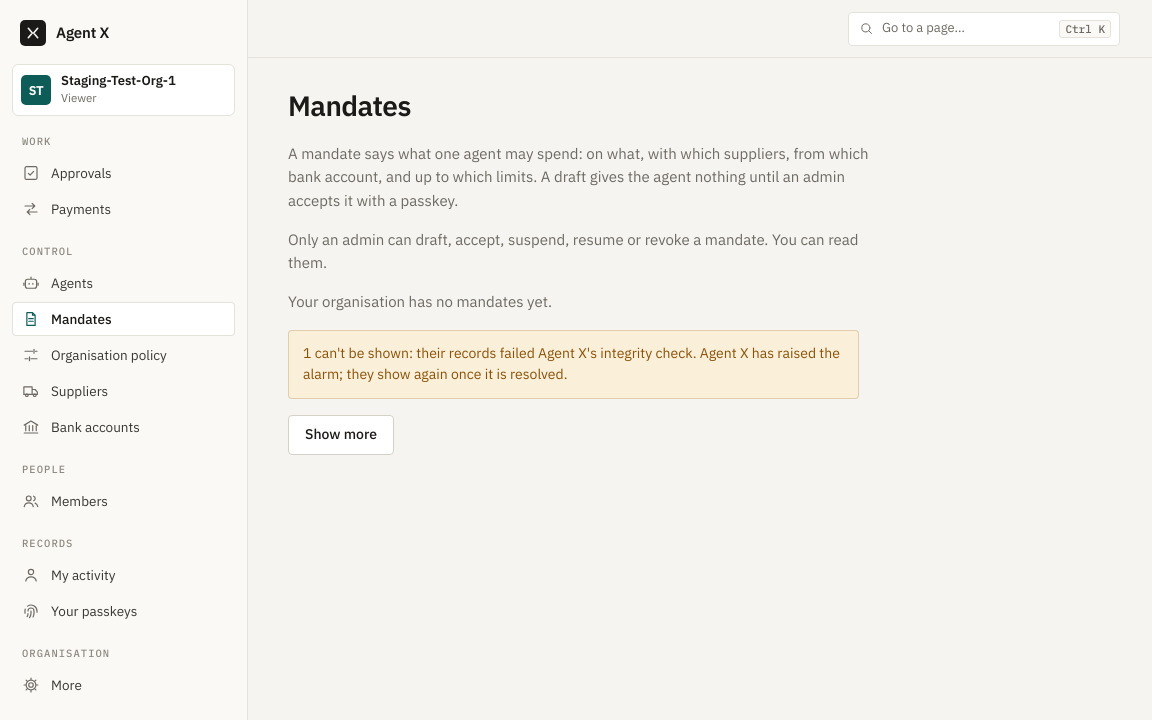
Scenario: the mandates list › says when there are none, pages on, and tells a non-admin they can only read
This screenshot has width=1152, height=720.
Expected: the text "can't be shown: their records failed" is shown, [303,344,840,383]
Expected: the text "Only an admin can draft" is shown, [288,230,858,272]
Click the button "Show more" at [341, 435], box [288,415,394,455]
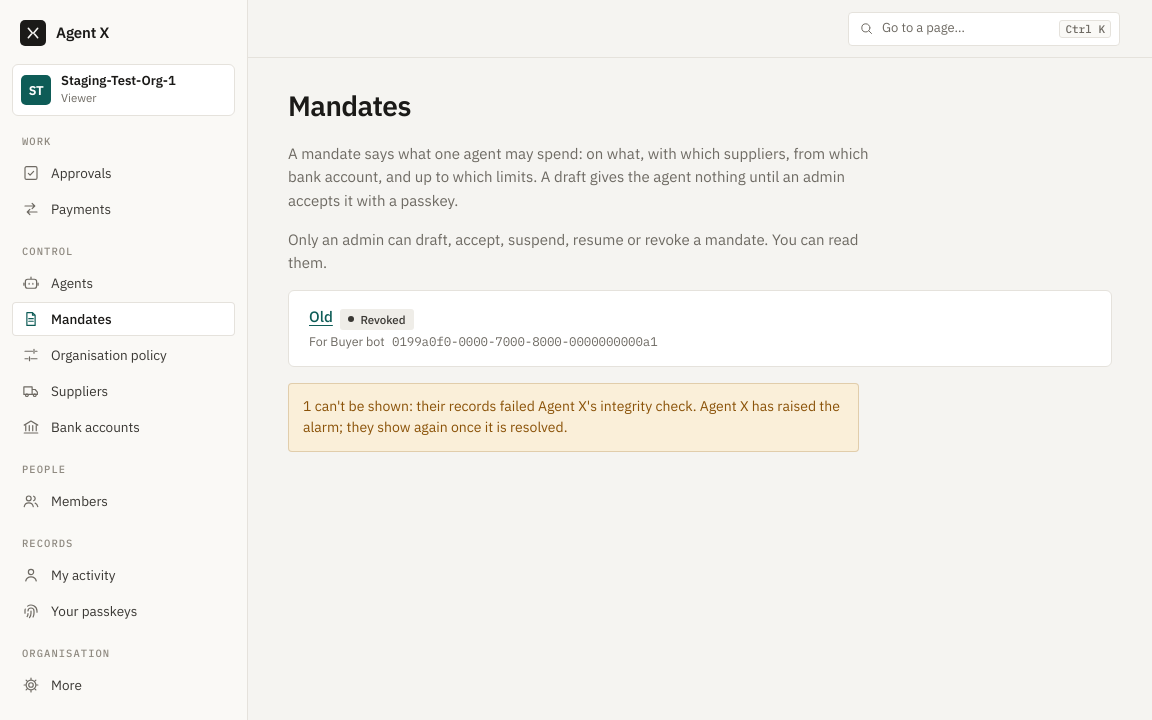
Expected: the link "Old" is shown, [309,307,333,326]
Expected: the text "Revoked" is shown, [340,308,414,330]
